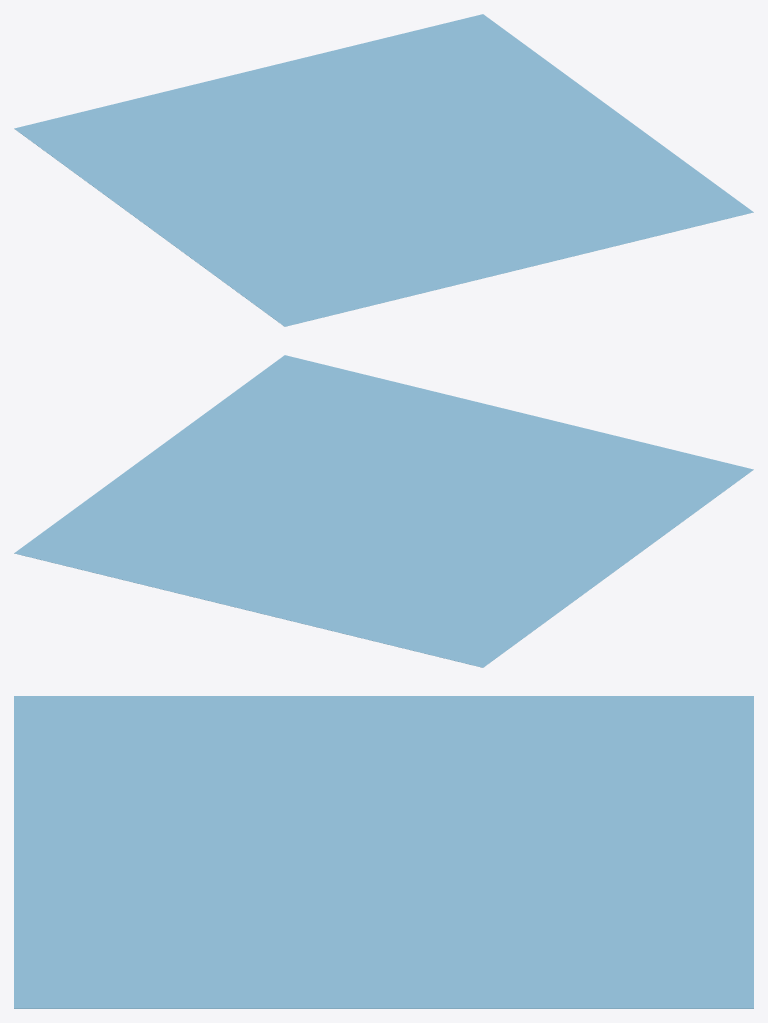
File: ground_surface.dae
3 renders of one model, top to bottom at view 1: azimuth 30°, elevation 25°; view 2: azimuth 150°, elevation 25°; view 3: azimuth 270°, elevation 25°, orthographic. The views are drawn at different scales.
Parts seen in each view (by area): view 1: ID2; view 2: ID2; view 3: ID2.
Part boxes in pixels (x1=…): ID2: x1=14, y1=14, x2=753, y2=326; ID2: x1=14, y1=355, x2=753, y2=667; ID2: x1=14, y1=696, x2=753, y2=1008.
Bounding box in the file's own units: 40 × 40 × 0.01.
